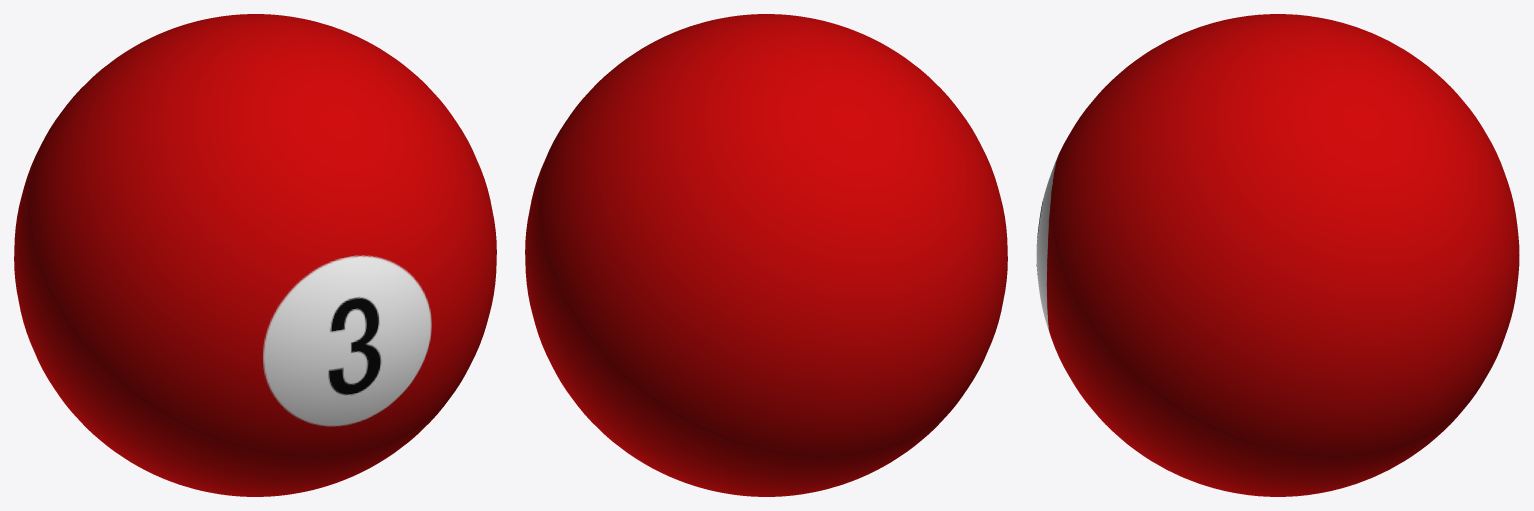
File: Ball3.obj
3 renders of one model, left to right at view 1: azimuth 30°, elevation 25°; view 2: azimuth 150°, elevation 25°; view 3: azimuth 270°, elevation 25°, orthographic.
Visible parts, largest first — view 1: Sphere; view 2: Sphere; view 3: Sphere.
Part boxes in pixels (bbox=[...]): Sphere: bbox=[14, 14, 496, 496]; Sphere: bbox=[525, 14, 1007, 496]; Sphere: bbox=[1036, 14, 1519, 496].
Bounding box in the file's own units: 2 × 2 × 2.
Materials: 1 (1 with a texture image).
